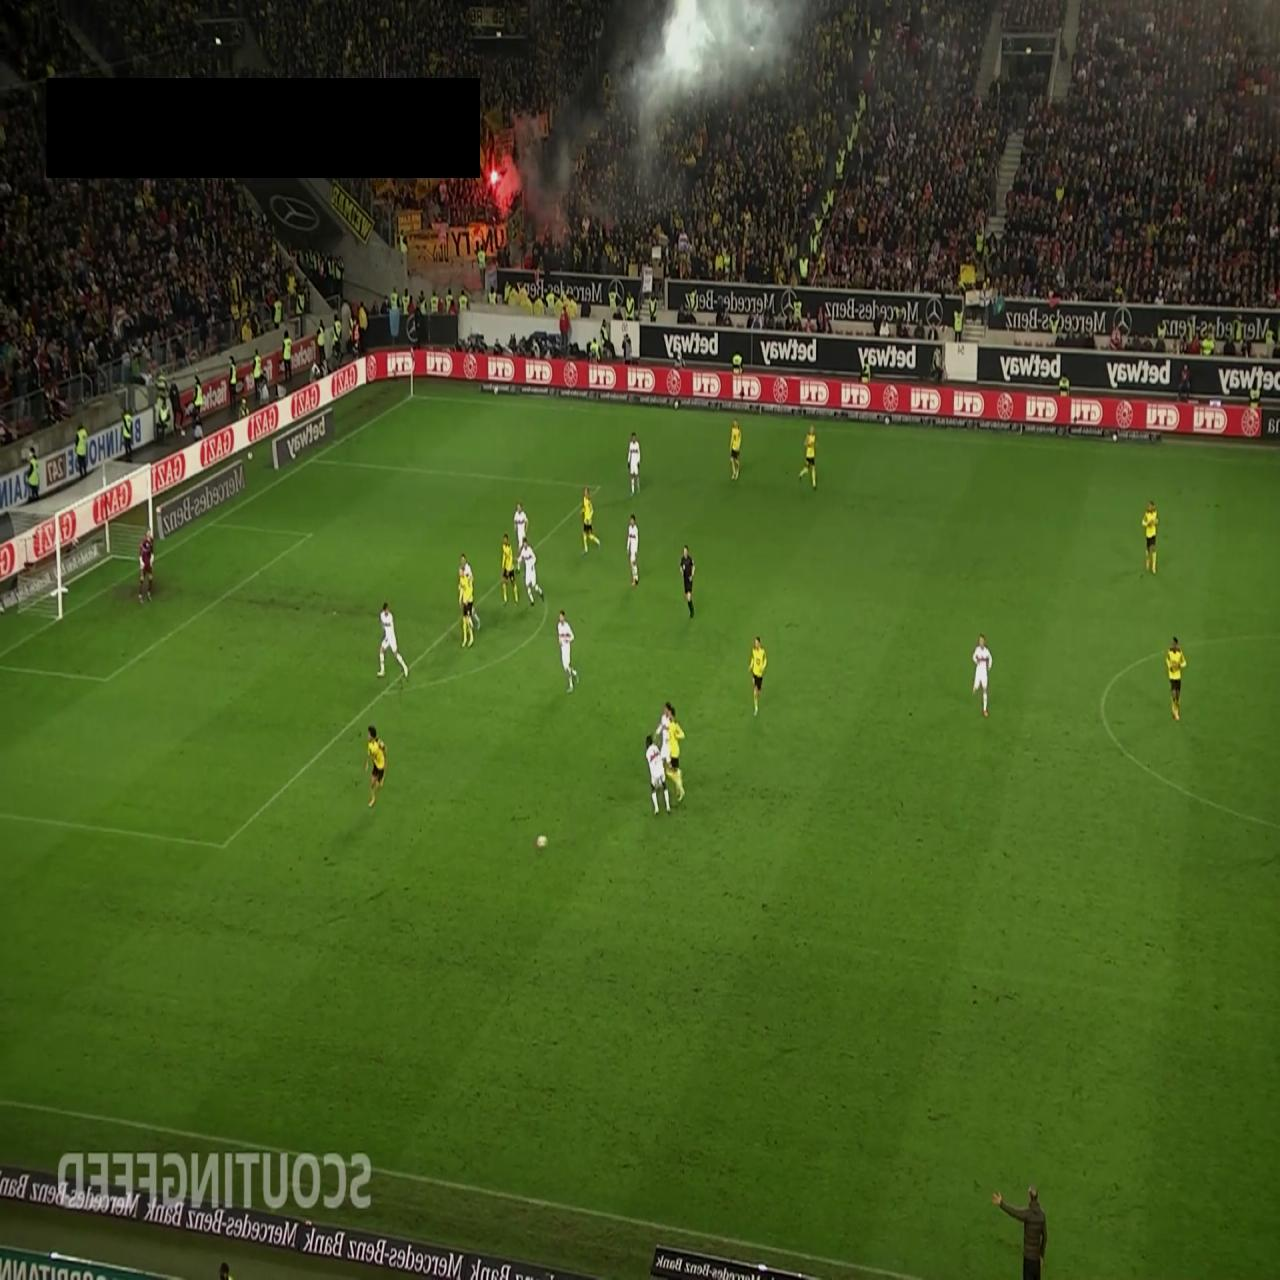ball: (535, 834, 548, 850)
goalkeeper: (137, 528, 155, 604)
player: (376, 600, 409, 681), (645, 732, 672, 816), (654, 701, 678, 789), (1166, 635, 1188, 721), (971, 633, 993, 717), (365, 726, 387, 809), (557, 608, 578, 693), (518, 538, 544, 606), (458, 552, 476, 650), (668, 709, 686, 806), (749, 635, 767, 717), (500, 532, 519, 606), (1141, 499, 1159, 575), (582, 487, 602, 554), (799, 422, 818, 491), (513, 500, 529, 560), (627, 432, 641, 496), (627, 513, 639, 587), (729, 418, 742, 482)
referee: (680, 544, 696, 619)
